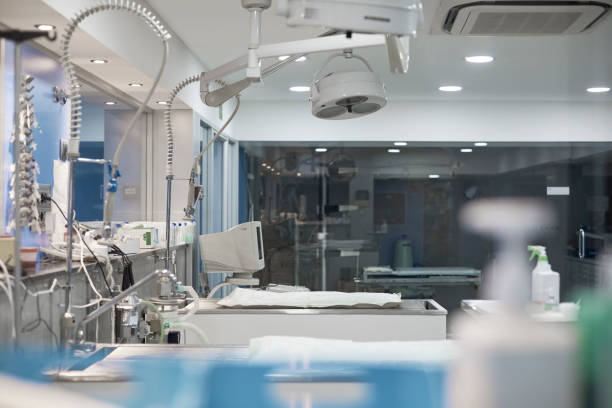bedside_monitor: (251, 222, 267, 269)
breathing_tube: (163, 283, 213, 347)
dispenser: (516, 243, 563, 303)
iv_pole: (1, 24, 34, 355)
operating_bed: (184, 286, 449, 335)
surgical_light: (306, 53, 388, 122)
